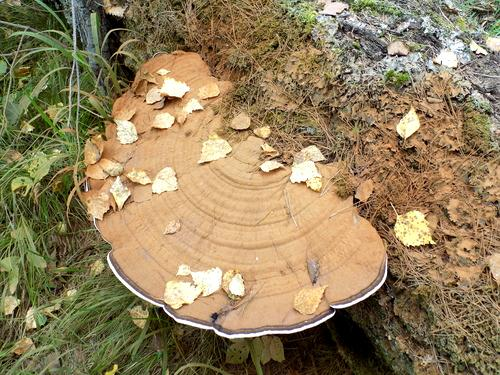Ganoderma - Fruit Body: (82, 48, 390, 341)
